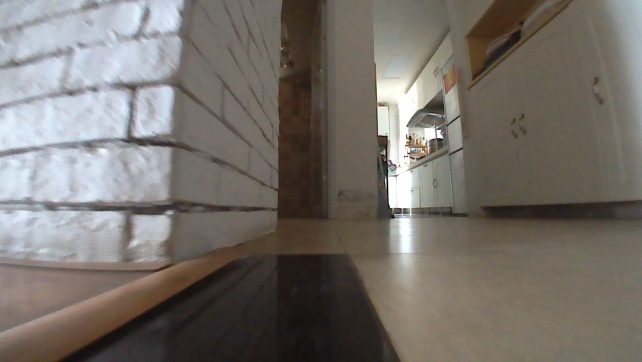cupboard: (386, 145, 451, 216)
refrigerator1: (441, 81, 469, 216)
